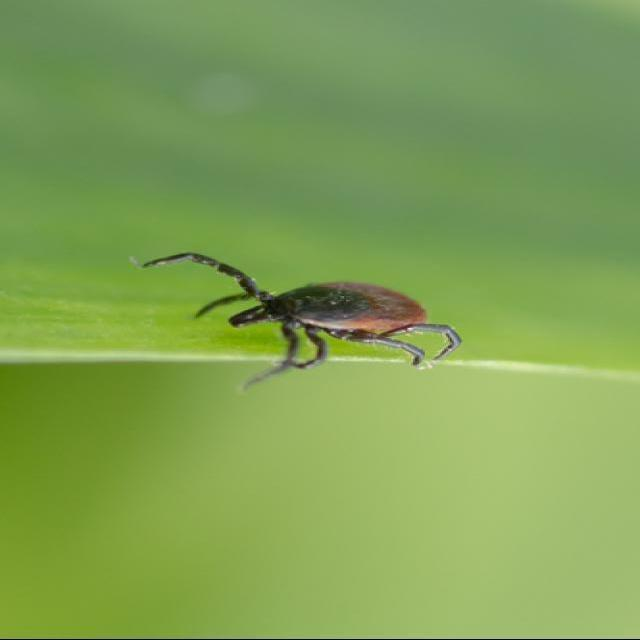Ixodes Ricinus-F: (136, 253, 461, 394)
